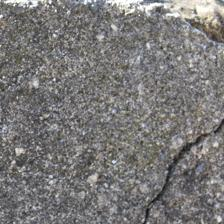Crack: (71, 61, 152, 160)
